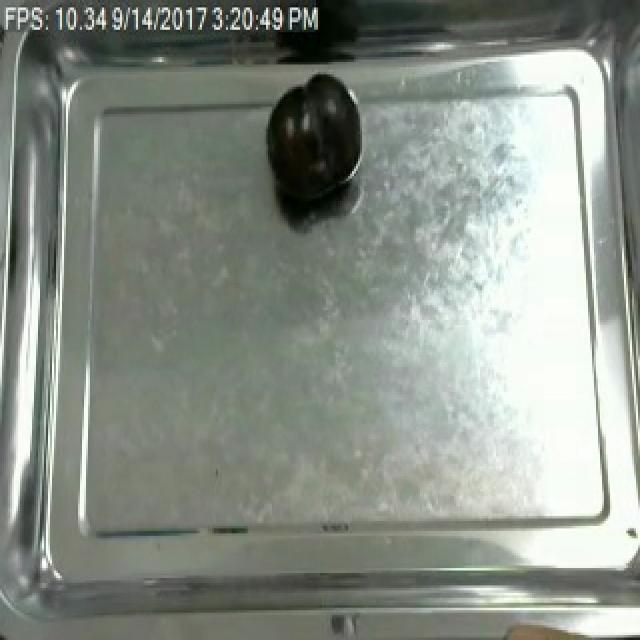Fruit: (260, 72, 364, 211)
